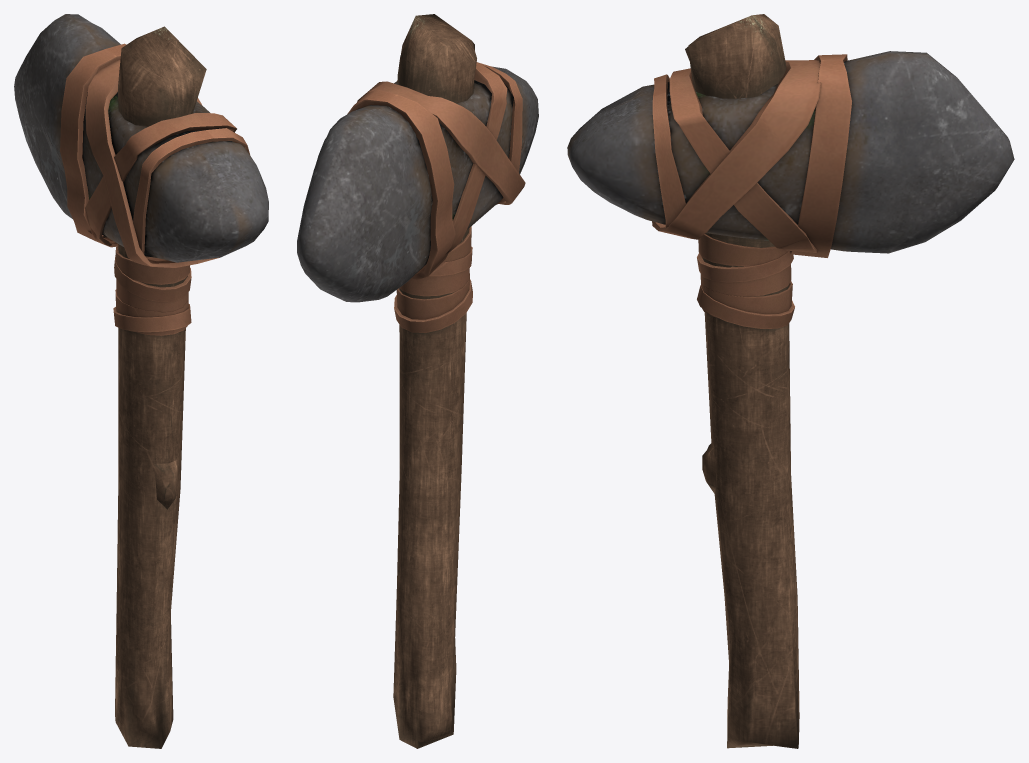
Rendered from axe.fbx.
3 renders of one model, left to right at view 1: azimuth 30°, elevation 25°; view 2: azimuth 150°, elevation 25°; view 3: azimuth 270°, elevation 25°, orthographic. The views are drawn at different scales.
Visible parts, largest first — view 1: wood_low, flint_low, rope2_low, rope1_low, rope3_low, rope4_low, rope5_low, rope9_low, rope6_low, rope7_low, rope8_low; view 2: wood_low, flint_low, rope1_low, rope2_low, rope3_low, rope8_low, rope9_low, rope4_low, rope7_low, rope6_low, rope5_low; view 3: flint_low, wood_low, rope2_low, rope1_low, rope3_low, rope4_low, rope5_low, rope9_low, rope6_low, rope8_low, rope7_low.
Boxes of the visible parts, <box> form: wood_low: <box>115,26,206,748</box>; flint_low: <box>14,14,268,262</box>; rope2_low: <box>85,59,219,267</box>; rope1_low: <box>60,43,126,247</box>; rope3_low: <box>85,113,236,246</box>; rope4_low: <box>133,128,249,263</box>; rope5_low: <box>115,245,189,284</box>; rope9_low: <box>113,304,191,332</box>; rope6_low: <box>114,255,191,302</box>; rope7_low: <box>116,279,188,312</box>; rope8_low: <box>115,289,188,335</box>; wood_low: <box>393,14,476,748</box>; flint_low: <box>297,66,538,302</box>; rope1_low: <box>347,89,455,279</box>; rope2_low: <box>357,81,525,204</box>; rope3_low: <box>397,62,507,274</box>; rope8_low: <box>396,273,469,319</box>; rope9_low: <box>394,279,472,332</box>; rope4_low: <box>477,62,522,204</box>; rope7_low: <box>400,267,469,296</box>; rope6_low: <box>429,246,472,276</box>; rope5_low: <box>442,226,471,262</box>; flint_low: <box>567,51,1014,253</box>; wood_low: <box>685,14,799,748</box>; rope2_low: <box>652,60,820,239</box>; rope1_low: <box>790,54,851,257</box>; rope3_low: <box>669,68,817,252</box>; rope4_low: <box>652,74,685,227</box>; rope5_low: <box>698,234,788,266</box>; rope9_low: <box>697,285,794,328</box>; rope6_low: <box>697,250,793,282</box>; rope8_low: <box>701,281,792,317</box>; rope7_low: <box>700,264,791,296</box>.
Bounding box in the file's own units: 37.01 × 220 × 120.
1 material, 1 textured.
